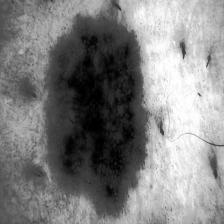Benign Marking or Mole: (46, 18, 148, 216)
